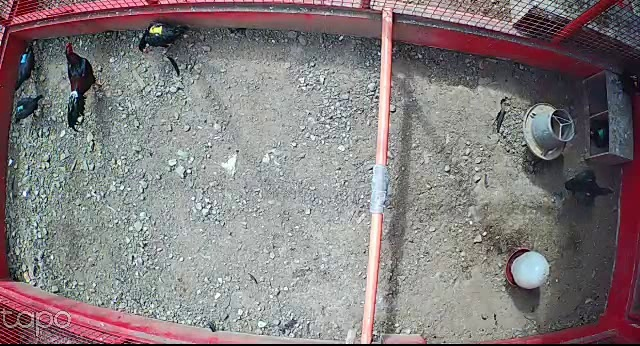Chicken: (564, 167, 617, 209), (133, 18, 194, 54), (12, 42, 46, 93), (11, 91, 45, 125)
Drinker: (505, 246, 551, 291)
Feeder: (522, 101, 574, 160)
Rooster: (62, 40, 107, 133)
Saddle_Color_Blue: (20, 54, 28, 64)
Saddle_Color_Yellow: (149, 24, 163, 35)
